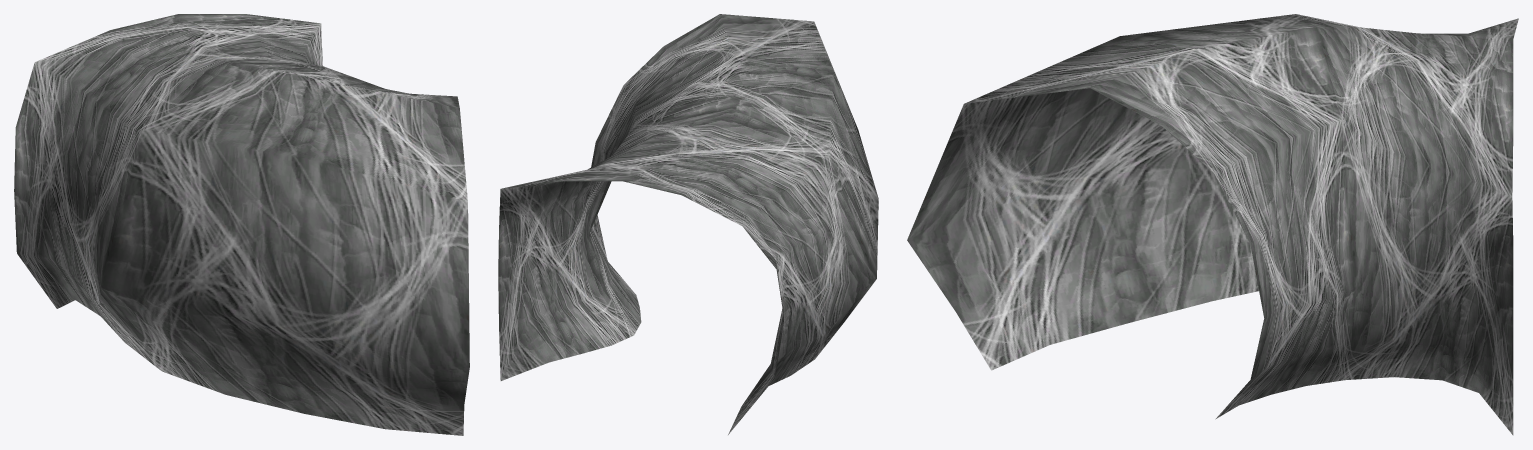
The model's file is SWORDLIGHT20_PS-AREA01_12.fbx.
The picture shows the model from 3 angles, left to right: view 1: azimuth 30°, elevation 25°; view 2: azimuth 150°, elevation 25°; view 3: azimuth 270°, elevation 25°; orthographic projection. The views are drawn at different scales.
Parts seen in each view (by area): view 1: SWORDLIGHT20_PS-AREA01_12; view 2: SWORDLIGHT20_PS-AREA01_12; view 3: SWORDLIGHT20_PS-AREA01_12.
Boxes of the visible parts, x1,y1,x2,y2 form: SWORDLIGHT20_PS-AREA01_12: (14,14,469,435); SWORDLIGHT20_PS-AREA01_12: (498,14,878,434); SWORDLIGHT20_PS-AREA01_12: (907,14,1518,435).
Bounding box in the file's own units: 68099 × 56282 × 97129.
Materials: 1 (1 with a texture image).
